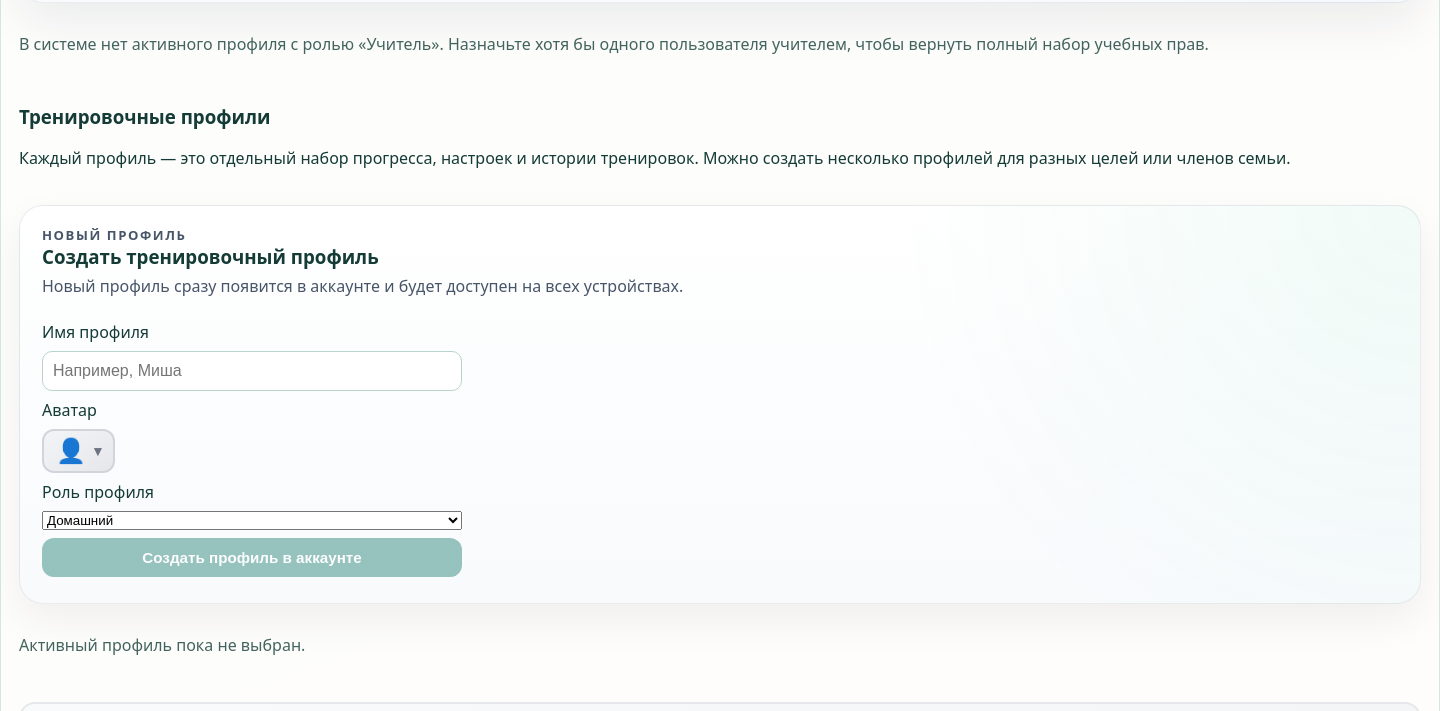
Test: ProfilesPage roles › creates profile with selected role and applies it as active role
(page scrolled)
Type "Миша" into the field with test id "profile-name-input".
click(252, 371); type("Миша")  # box [42, 351, 462, 391]
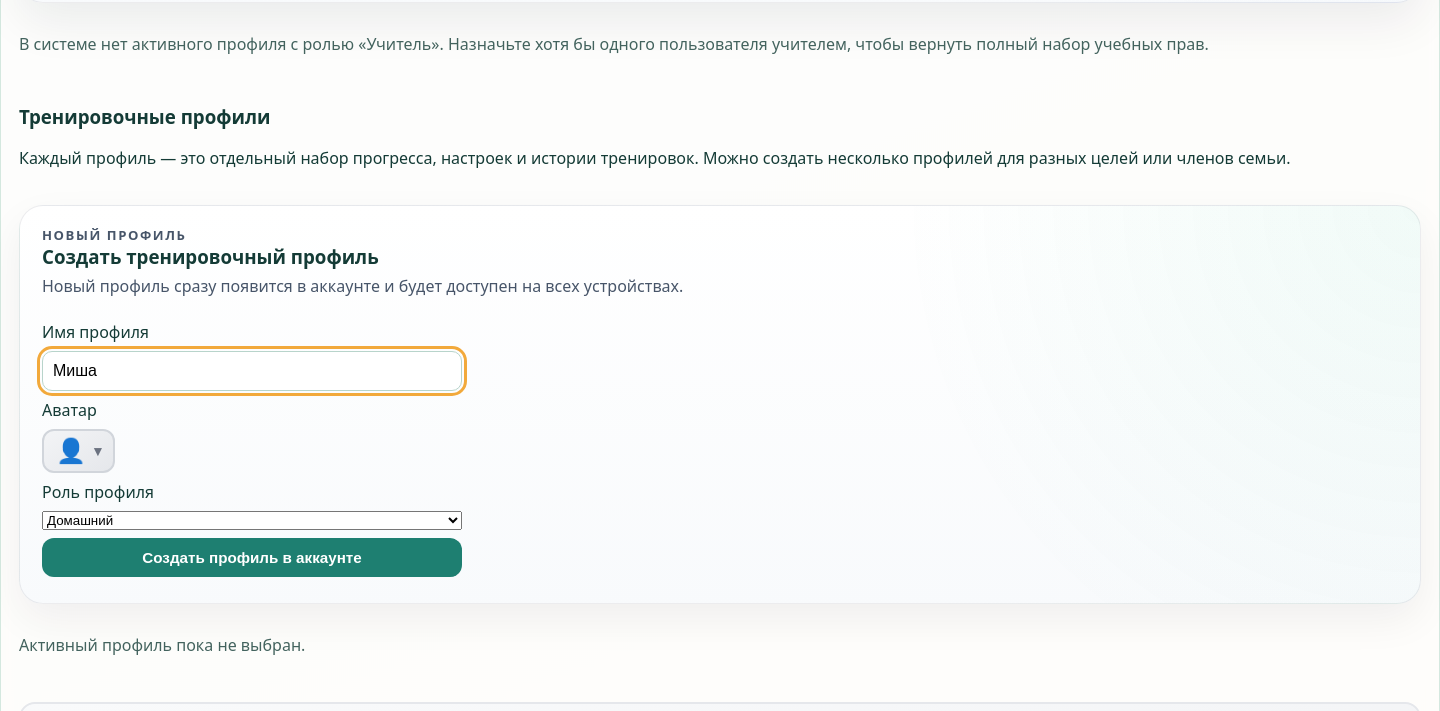
Select "Учитель" in the dropdown with test id "profile-role-select" at point(252, 521), box [42, 511, 462, 530]
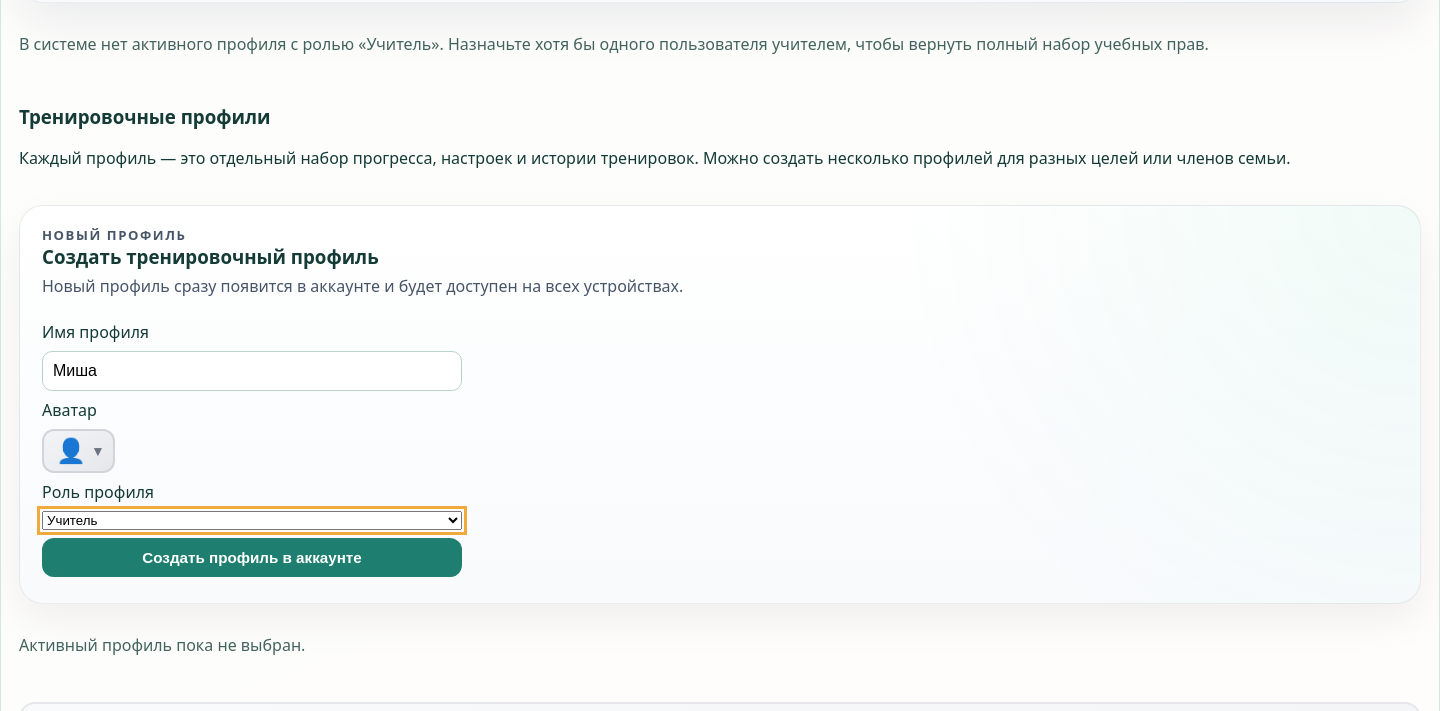
Click the button with test id "create-profile-btn".
click(252, 558)  # box [42, 538, 462, 577]
(page scrolled)
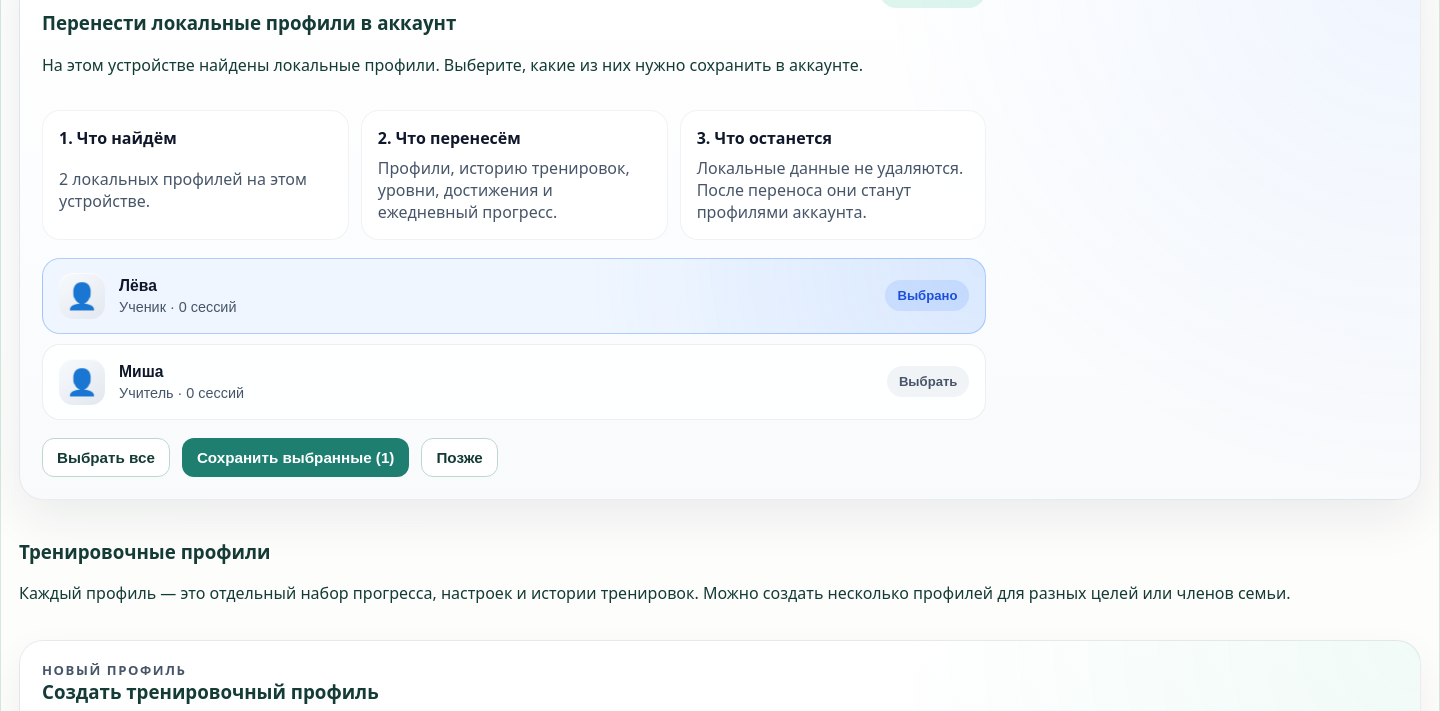
Expected: the text "Миша" is shown, [119, 363, 164, 380]
